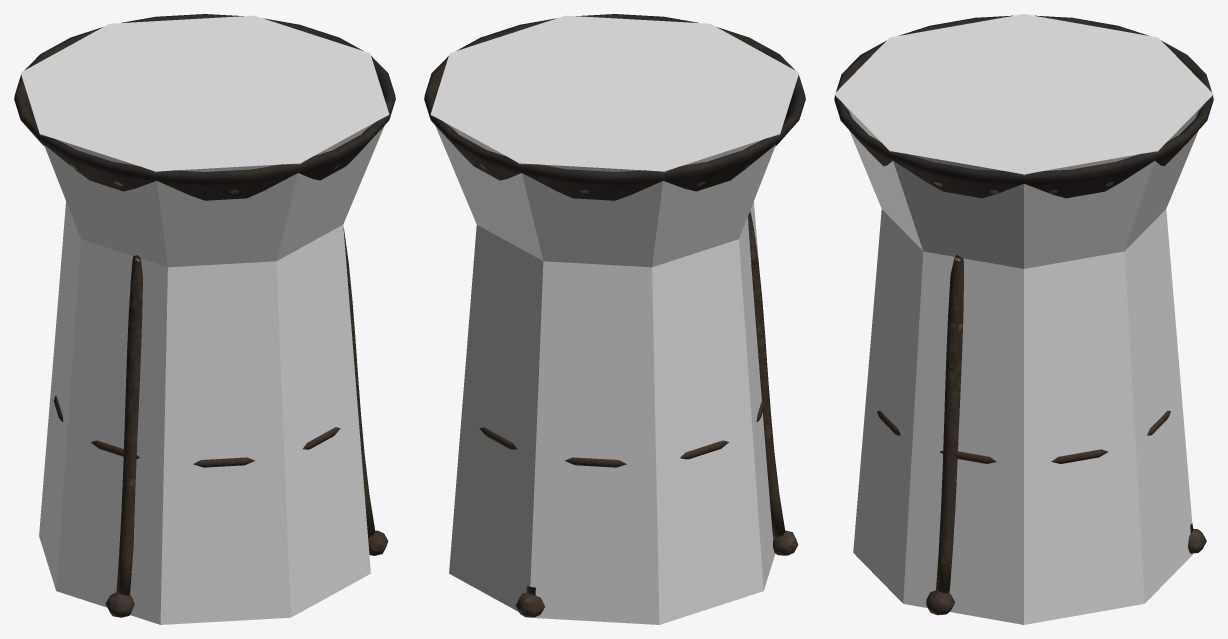
File: brazier_tripod.webp.glb
The picture shows the model from 3 angles, left to right: view 1: azimuth 30°, elevation 25°; view 2: azimuth 150°, elevation 25°; view 3: azimuth 270°, elevation 25°; orthographic projection.
Visible parts, largest first — view 1: COL, LOD0_iron; view 2: COL, LOD0_iron; view 3: COL, LOD0_iron.
Part boxes in pixels (x1,y1,x2,y2): COL: [21, 15, 389, 624]; LOD0_iron: [14, 14, 395, 617]; COL: [430, 15, 798, 624]; LOD0_iron: [424, 14, 805, 617]; COL: [834, 14, 1213, 624]; LOD0_iron: [834, 15, 1213, 615].
Bounding box in the file's own units: 0.9 × 1.2 × 0.9.
Materials: 2 (1 with a texture image).
